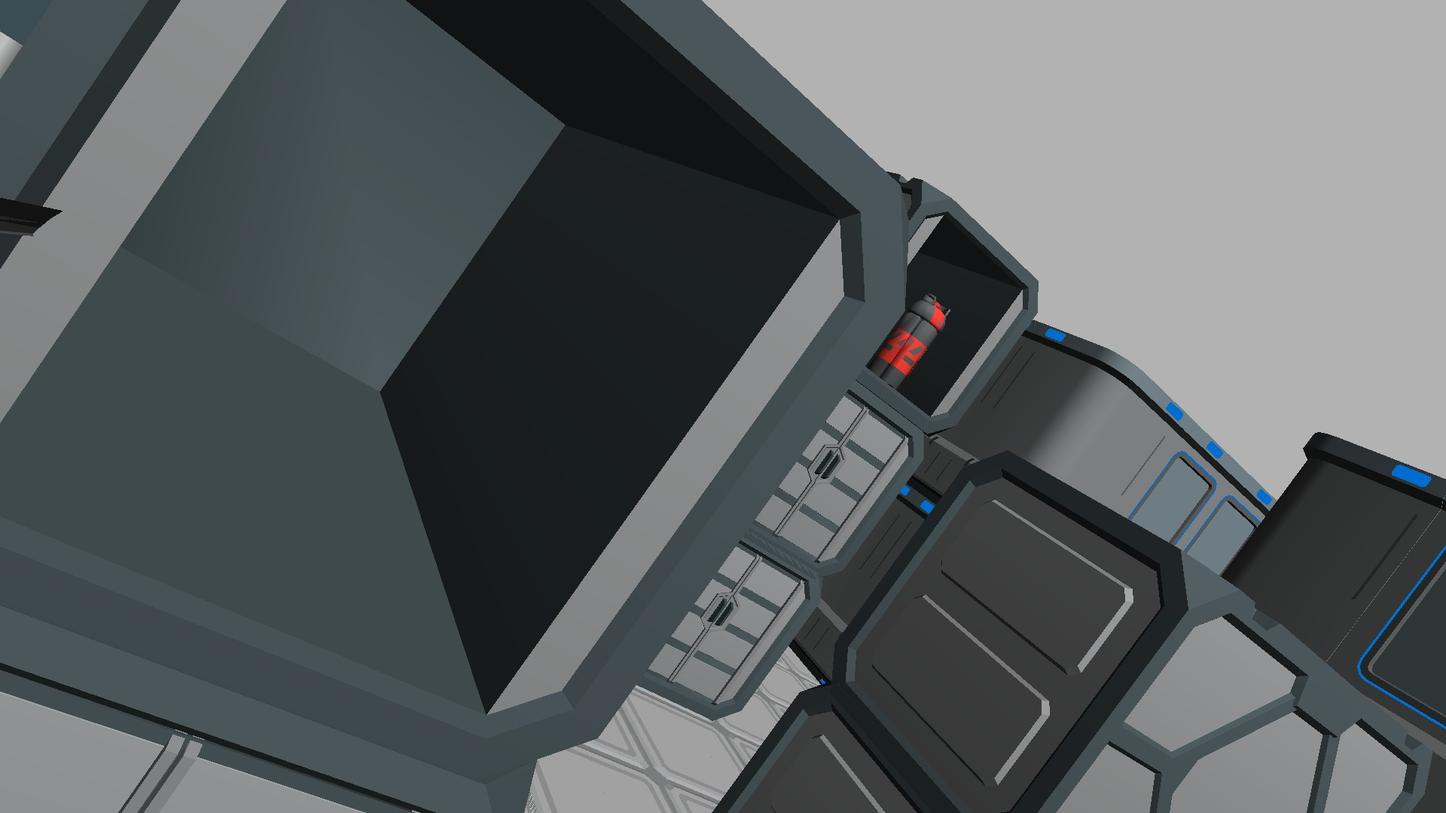red barrel: (866, 293, 951, 391)
